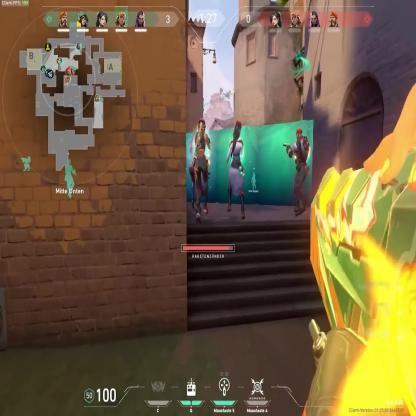enemy: (285, 125, 309, 219), (225, 120, 246, 220), (194, 118, 212, 220), (190, 130, 201, 213)
enemy_head: (198, 119, 205, 133), (233, 124, 240, 138), (296, 128, 302, 141)
